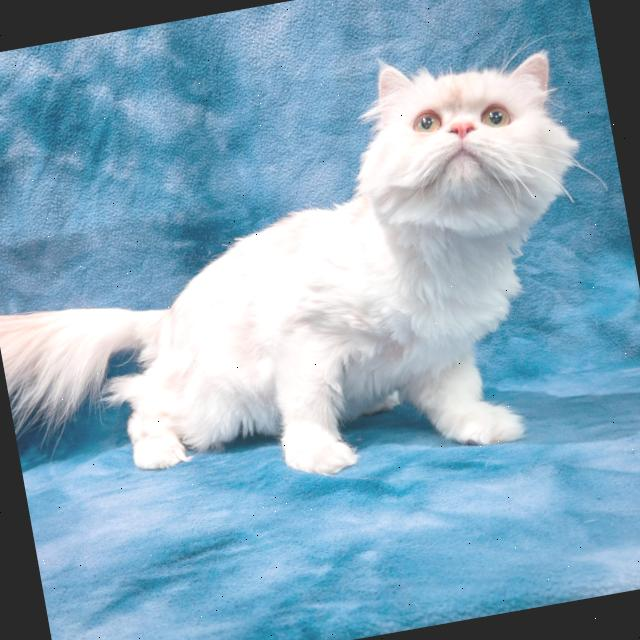persian_cat: (319, 15, 602, 276)
